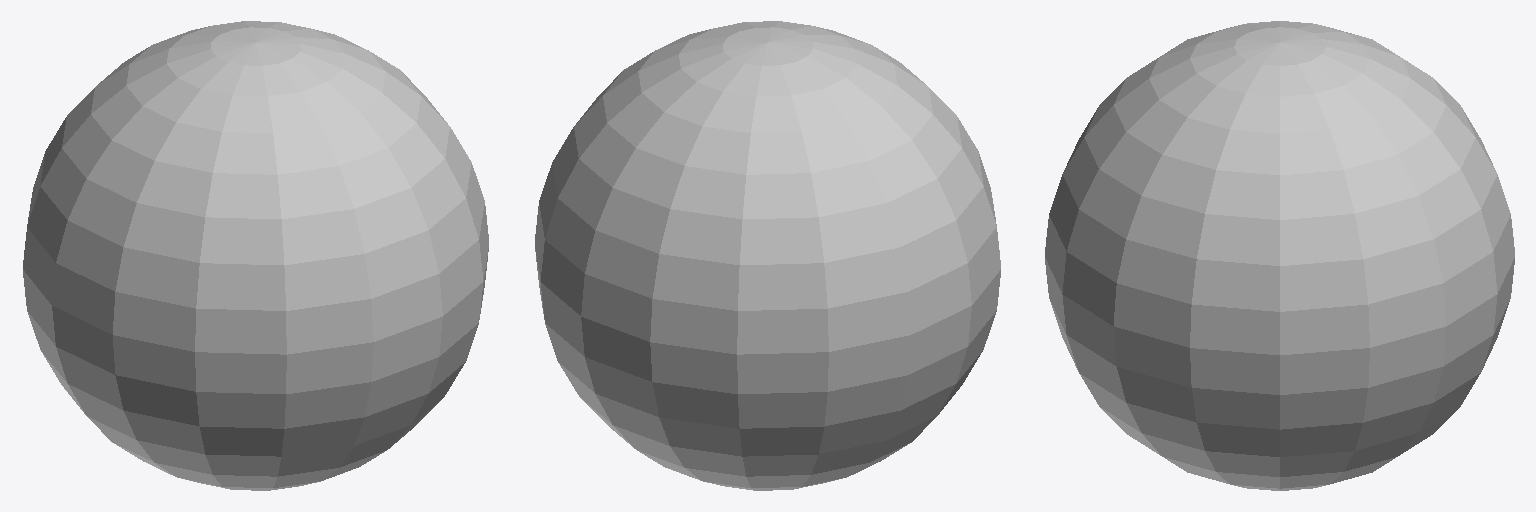
The model's file is eye.obj.
3 renders of one model, left to right at view 1: azimuth 30°, elevation 25°; view 2: azimuth 150°, elevation 25°; view 3: azimuth 270°, elevation 25°, orthographic.
Parts seen in each view (by area): view 1: Sphere; view 2: Sphere; view 3: Sphere.
Part boxes in pixels (left/top/right/bottom): Sphere: left=23, top=21, right=488, bottom=490; Sphere: left=535, top=21, right=1000, bottom=490; Sphere: left=1045, top=21, right=1514, bottom=490.
Size of the model in its own units: 2.2 by 2.2 by 2.2.